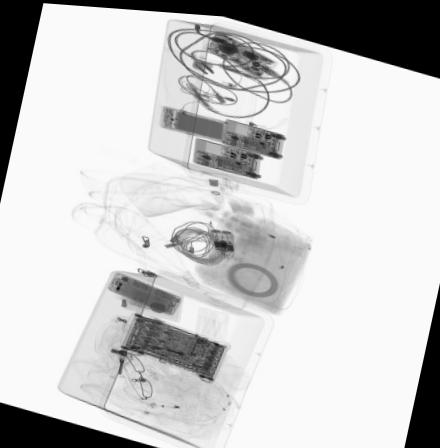Powerbank: (156, 101, 228, 139)
